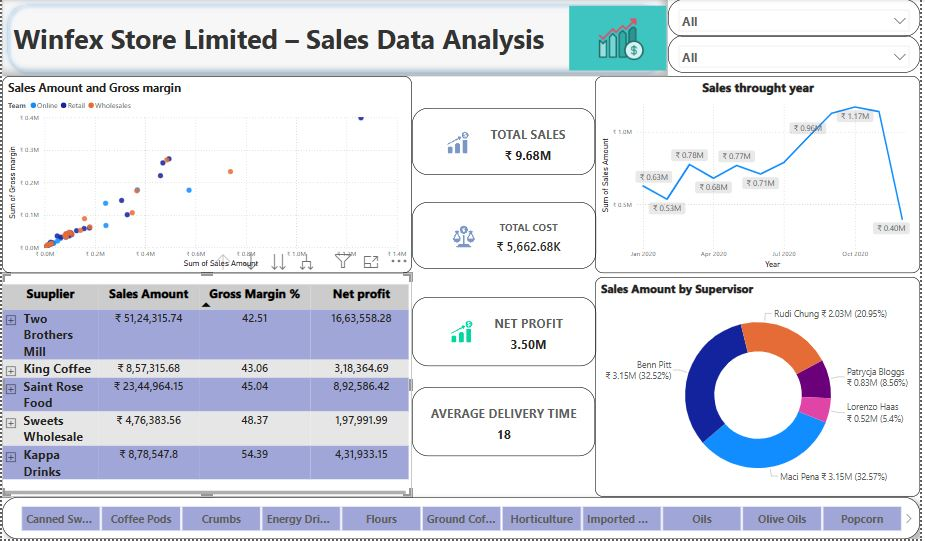

The dashboard page shown, as its layout file describes it:
{"tool":"powerbi","page":{"name":"Page 1","canvas":[1700,1000],"ordinal":0},"visuals":[{"type":"lineChart","title":"Sales throught year","fields":{"Y":["Revenue calculation 1.Sales Amount"],"Category":["Revenue calculation 1.Order Date.Variation.Date Hierarchy.Year","Revenue calculation 1.Order Date.Variation.Date Hierarchy.Month"]},"box":[1098.1,142.6,601.9,364.8],"z":0},{"type":"pivotTable","fields":{"Rows":["Revenue calculation 1.Product.Supplier","Revenue calculation 1.Product.Group"],"Values":["Revenue calculation 1.Sales Amount","Revenue calculation 1.Gross Margin %","Revenue calculation 1.Net profit"]},"box":[0,507.4,759.3,414.8],"z":1000},{"type":"donutChart","title":"Sales Amount by Supervisor","fields":{"Category":["Revenue calculation 1.Supervisor"],"Y":["Revenue calculation 1.Sales Amount"]},"box":[1098.1,514.8,601.9,407.4],"z":2000},{"type":"shape","box":[0,0,1233.3,142.6],"z":3000},{"type":"scatterChart","title":"Sales Amount and Gross margin","fields":{"X":["Revenue calculation 1.Sales Amount"],"Y":["Revenue calculation 1.Gross margin"],"Category":["Revenue calculation 1.Product.Group"],"Series":["Revenue calculation 1.Team"]},"box":[0,142.6,759.3,364.8],"z":4000},{"type":"slicer","fields":{"Values":["Revenue calculation 1.Order Date.Variation.Date Hierarchy.Month"]},"box":[1233.3,0,466.7,70.4],"z":5000},{"type":"slicer","fields":{"Values":["Revenue calculation 1.Product.Category"]},"box":[1233.3,66.7,466.7,70.4],"z":6000},{"type":"cardVisual","fields":{"Data":["Revenue calculation 1.Cost amount"]},"box":[759.3,375.9,340.7,124.1],"z":7000},{"type":"cardVisual","fields":{"Data":["Revenue calculation 1.Delivery time span"]},"box":[759.3,718.5,338.9,127.8],"z":8000},{"type":"cardVisual","fields":{"Data":["Revenue calculation 1.Sales Amount"]},"box":[759.3,201.9,338.9,124.1],"z":9000},{"type":"cardVisual","fields":{"Data":["Revenue calculation 1.Net profit"]},"box":[759.3,551.9,340.7,127.8],"z":10000},{"type":"slicer","fields":{"Values":["Revenue calculation 1.Product.Group"]},"box":[0,922.2,1700,77.8],"z":11000},{"type":"shape","box":[622.2,137,746.3,779.6],"z":12000},{"type":"image","box":[996.3,7.4,287,129.6],"z":13000}]}

Visuals, with their boxes in screenshot pixels (x1, y1, x2, y2), scaled from the page's 1700x1000 canvas onto the 925x541 screenshot:
"Sales throught year" lineChart: box(597, 77, 924, 275)
pivotTable - Revenue calculation 1.Product.Supplier x Revenue calculation 1.Product.Group: box(0, 275, 413, 499)
"Sales Amount by Supervisor" donutChart: box(597, 279, 924, 499)
shape: box(0, 0, 671, 77)
"Sales Amount and Gross margin" scatterChart: box(0, 77, 413, 275)
slicer - Revenue calculation 1.Order Date.Variation.Date Hierarchy.Month: box(671, 0, 924, 38)
slicer - Revenue calculation 1.Product.Category: box(671, 36, 924, 74)
cardVisual - Revenue calculation 1.Cost amount: box(413, 203, 599, 270)
cardVisual - Revenue calculation 1.Delivery time span: box(413, 389, 598, 458)
cardVisual - Revenue calculation 1.Sales Amount: box(413, 109, 598, 176)
cardVisual - Revenue calculation 1.Net profit: box(413, 299, 599, 368)
slicer - Revenue calculation 1.Product.Group: box(0, 499, 924, 540)
shape: box(339, 74, 745, 496)
image: box(542, 4, 698, 74)
